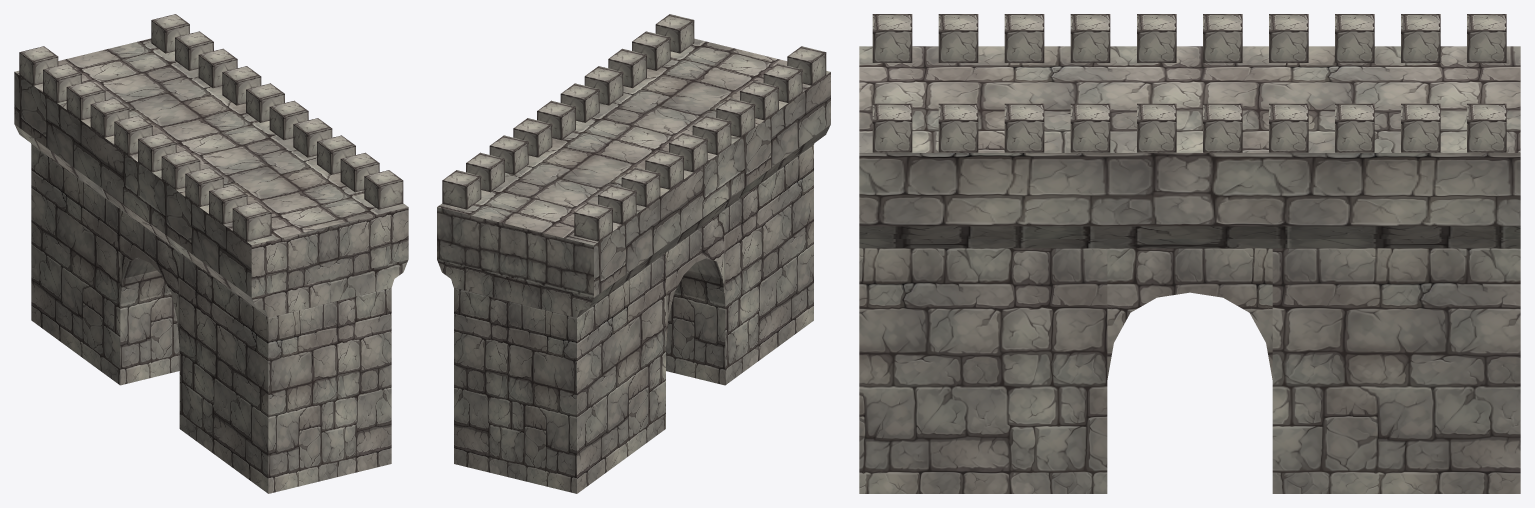
File: Murailles_Opened.fbx
The picture shows the model from 3 angles, left to right: view 1: azimuth 30°, elevation 25°; view 2: azimuth 150°, elevation 25°; view 3: azimuth 270°, elevation 25°; orthographic projection. The views are drawn at different scales.
Visible parts, largest first — view 1: Base Door, High Base, Cube, Support; view 2: Base Door, High Base, Cube, Support; view 3: Base Door, High Base, Cube, Support.
Boxes of the visible parts, bbox=[...] form: Base Door: bbox=[31, 144, 391, 493]; High Base: bbox=[14, 38, 408, 297]; Cube: bbox=[19, 14, 403, 241]; Support: bbox=[15, 125, 408, 317]; Base Door: bbox=[454, 145, 813, 493]; High Base: bbox=[437, 38, 830, 297]; Cube: bbox=[442, 14, 826, 241]; Support: bbox=[437, 124, 830, 317]; Base Door: bbox=[859, 248, 1520, 493]; High Base: bbox=[859, 46, 1520, 226]; Cube: bbox=[872, 14, 1506, 152]; Support: bbox=[859, 226, 1520, 248].
Bounding box in the file's own units: 382 × 642 × 1000.
